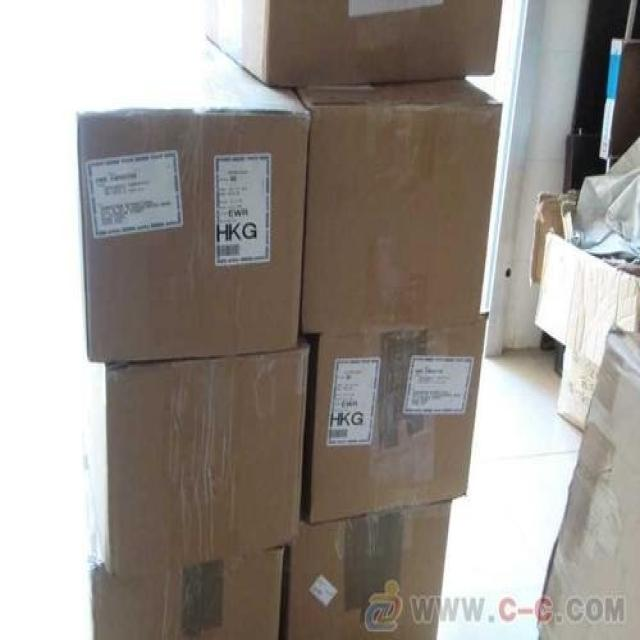box: (78, 108, 311, 361), (294, 78, 502, 333), (105, 346, 309, 578), (311, 313, 489, 524), (205, 0, 503, 87), (288, 497, 453, 638), (92, 544, 285, 638)
